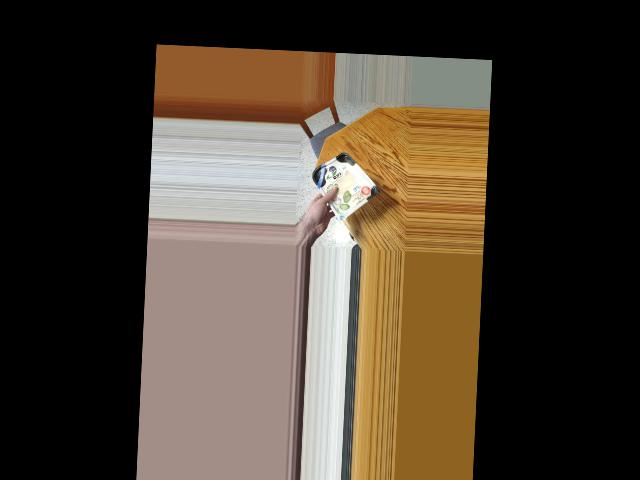cheese: (315, 150, 373, 210)
